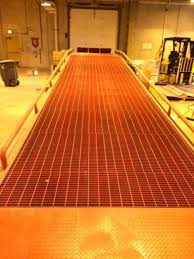Yard Ramp: (3, 38, 194, 214)
